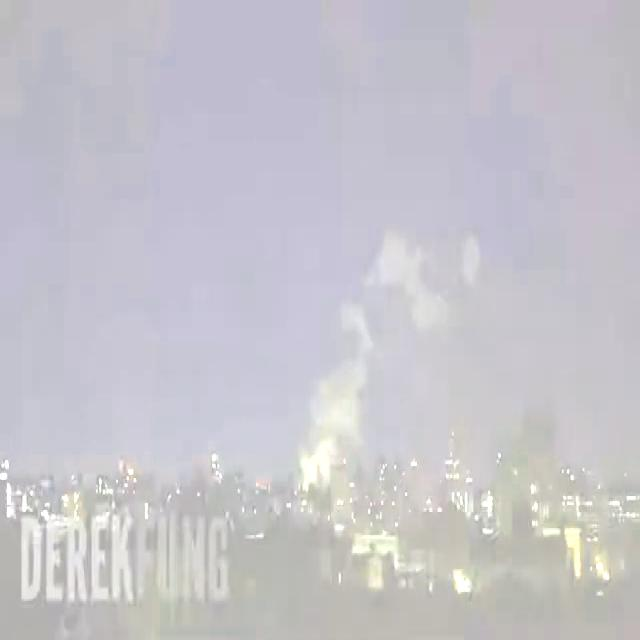smoke: (299, 304, 373, 478)
